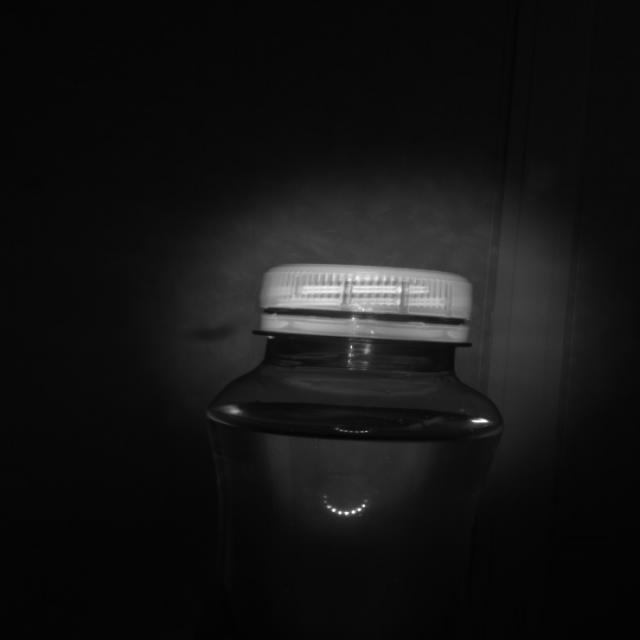Not Good: (259, 260, 473, 343)
